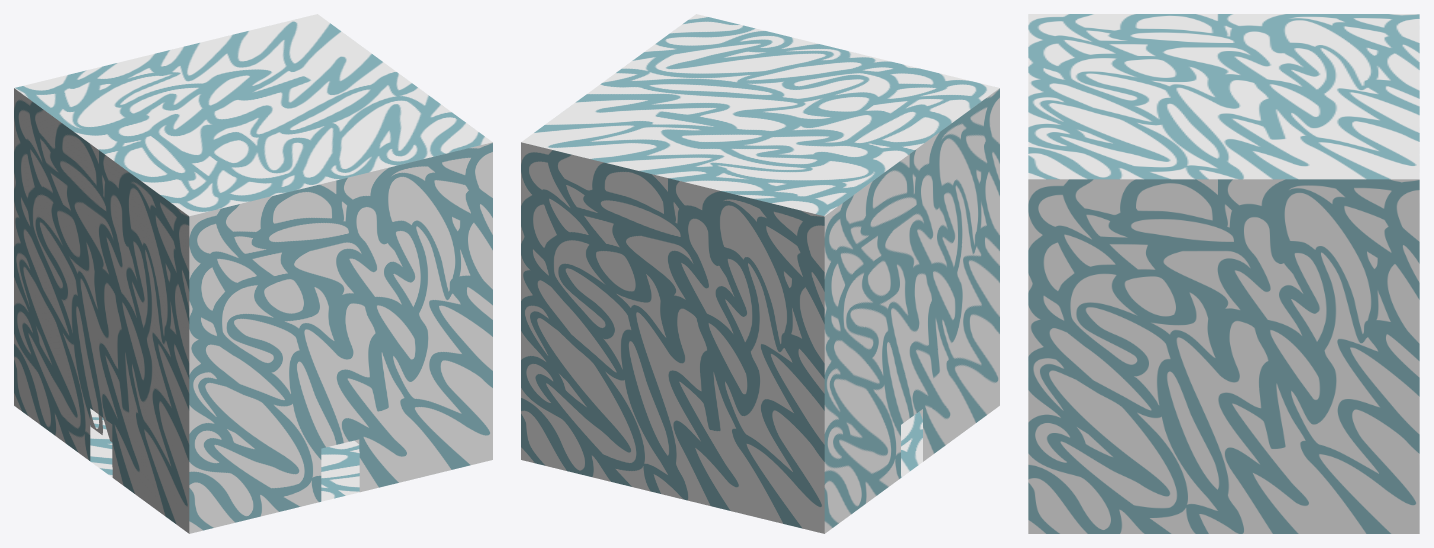
File: Blue_Squiggles_Rm.fbx
3 views of the same model, side by side, from view 1: azimuth 30°, elevation 25°; view 2: azimuth 150°, elevation 25°; view 3: azimuth 270°, elevation 25° (orthographic). The views are drawn at different scales.
Visible parts, largest first — view 1: P_Blue_Squiggles_Rm; view 2: P_Blue_Squiggles_Rm; view 3: P_Blue_Squiggles_Rm.
Boxes of the visible parts, box(x1,y1,x2,y2) form: P_Blue_Squiggles_Rm: box(14, 14, 492, 533); P_Blue_Squiggles_Rm: box(521, 14, 999, 533); P_Blue_Squiggles_Rm: box(1028, 14, 1419, 533).
Bounding box in the file's own units: 27.81 × 27.94 × 27.81.
